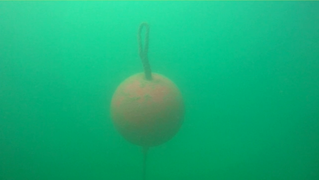buoy: (109, 71, 186, 147)
